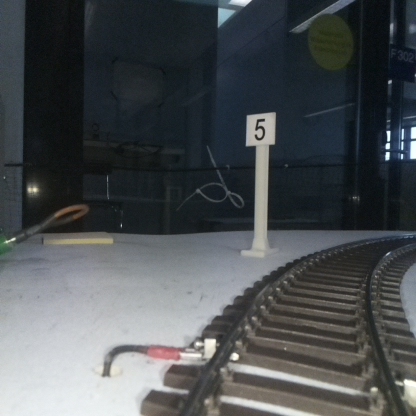white-info-5: (246, 111, 275, 257)
